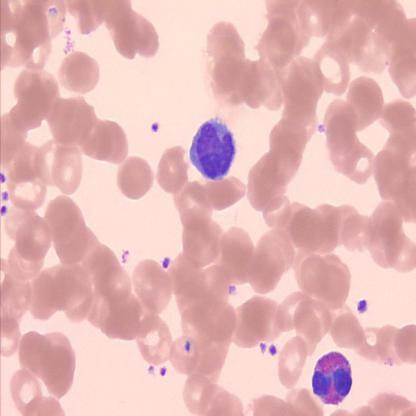Eosinophil: (311, 348, 353, 404)
